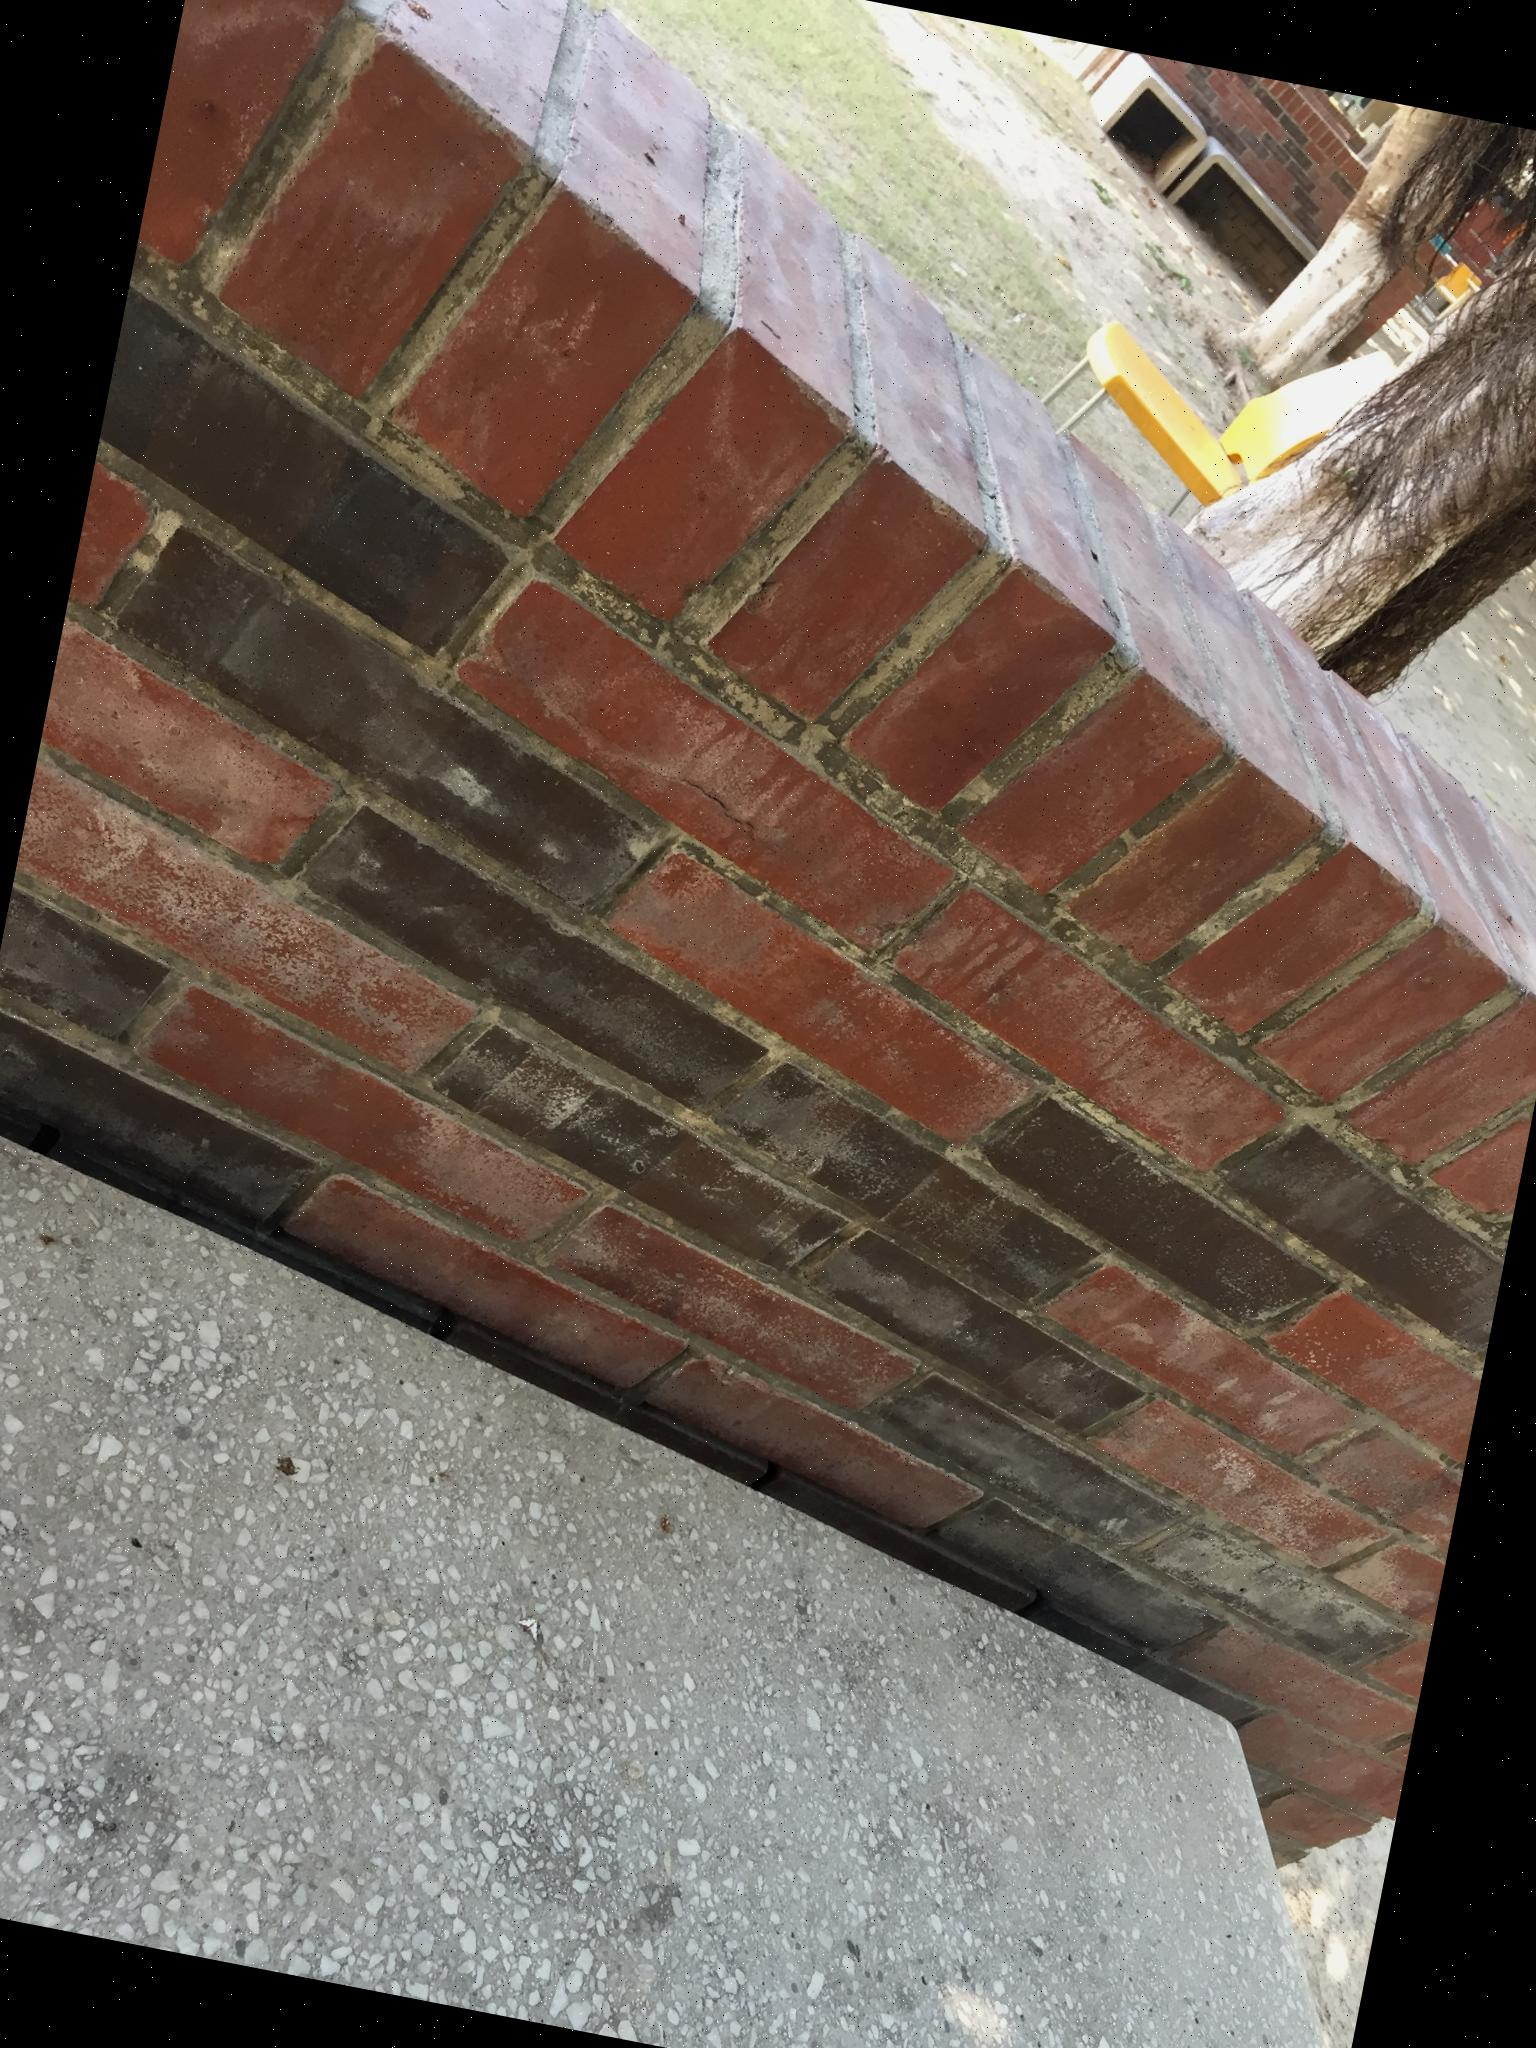chair: (1023, 285, 1405, 560)
